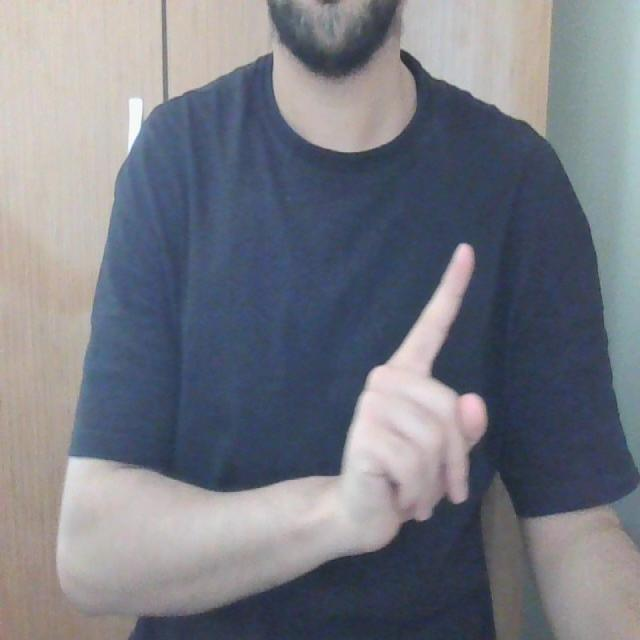Hayir: (342, 201, 499, 604)
